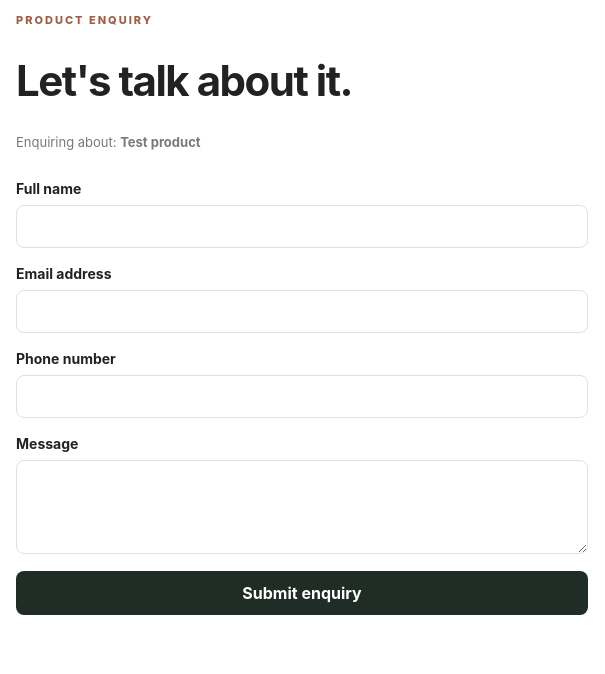
Test case: Enquiry feature › rejects invalid phone numbers before calling the API
Type "Taylor Example" into the field labelled "Full name" at (302, 227), box [16,205,588,248]
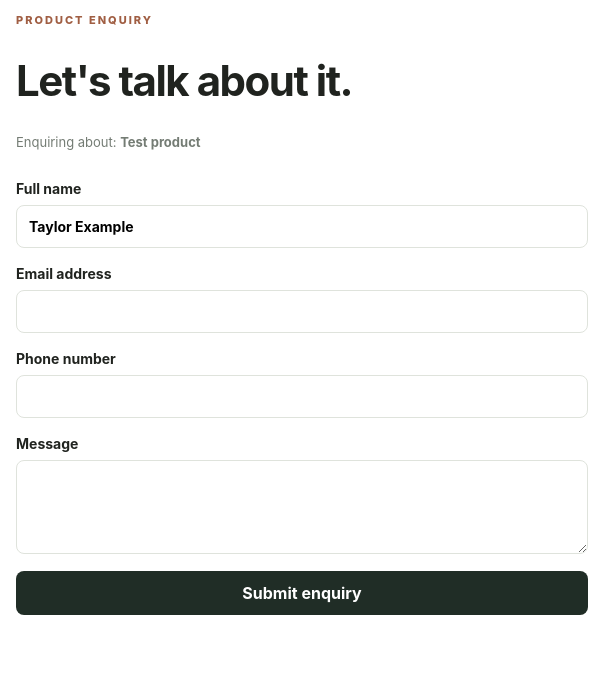
Type "taylor@example.test" into the field labelled "Email address" at (302, 312), box [16,290,588,333]
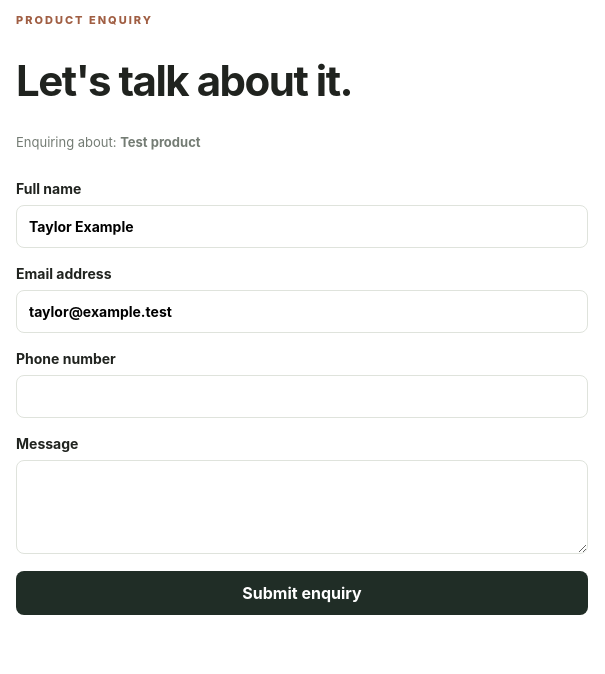
Type "--------" into the field labelled "Phone number" at (302, 397), box [16,375,588,418]
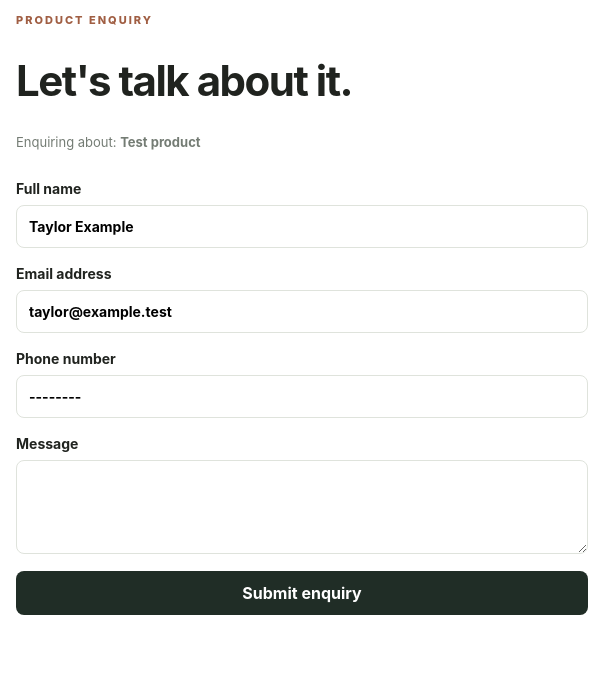
Type "Please send me more information." into the text box labelled "Message" at (302, 507), box [16,460,588,554]
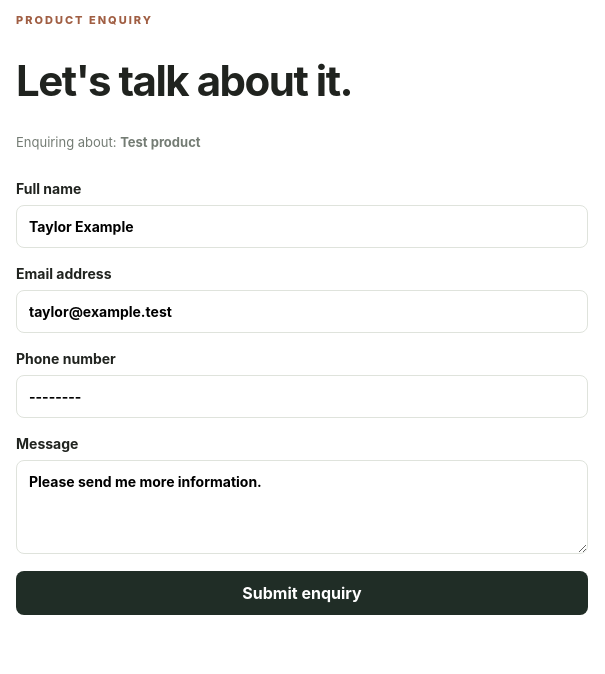
Click the button "Submit enquiry" at (302, 593), box [16,571,588,615]
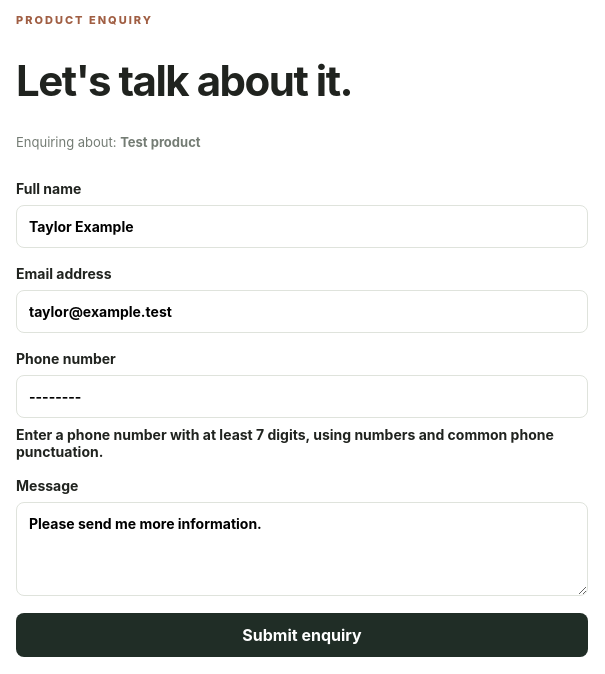
Expected: the text "at least 7 digits" is shown, [16,426,554,460]
